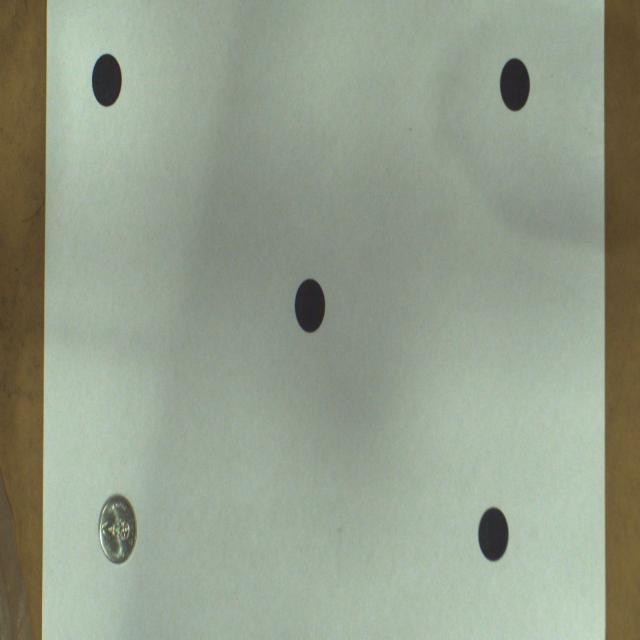space: (479, 507, 509, 562), (295, 278, 325, 333), (500, 58, 530, 111), (92, 53, 121, 107)
tail1bath: (99, 496, 136, 564)
